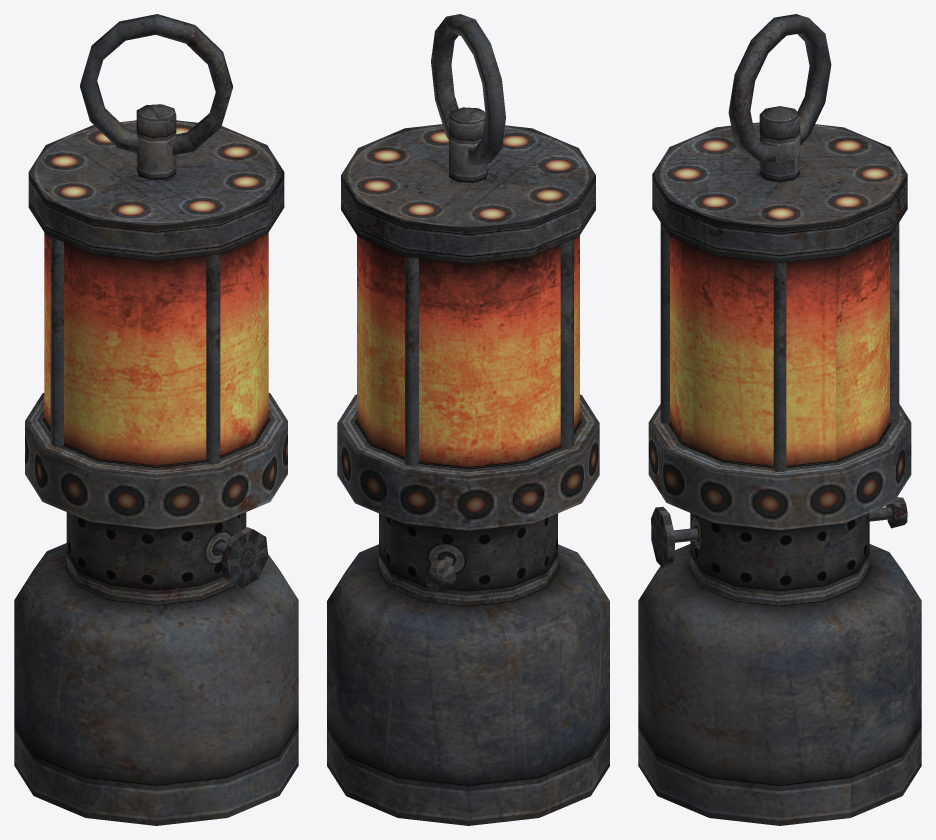
Rendered from lamp3.fbx.
3 renders of one model, left to right at view 1: azimuth 30°, elevation 25°; view 2: azimuth 150°, elevation 25°; view 3: azimuth 270°, elevation 25°, orthographic.
Visible parts, largest first — view 1: polySurface1053; view 2: polySurface1053; view 3: polySurface1053.
Boxes of the visible parts, x1,y1,x2,y2 form: polySurface1053: (14, 14, 298, 825); polySurface1053: (327, 14, 609, 825); polySurface1053: (638, 14, 921, 825).
Bounding box in the file's own units: 0.1934 × 0.5626 × 0.1934.
